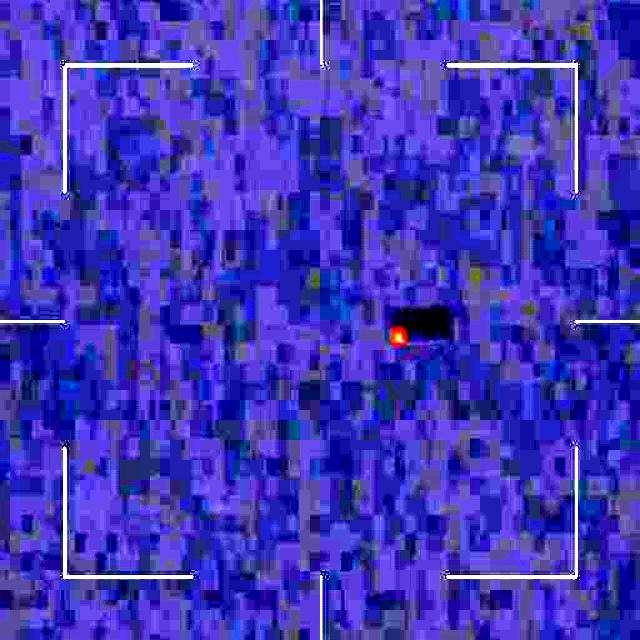bird: (384, 315, 414, 360)
